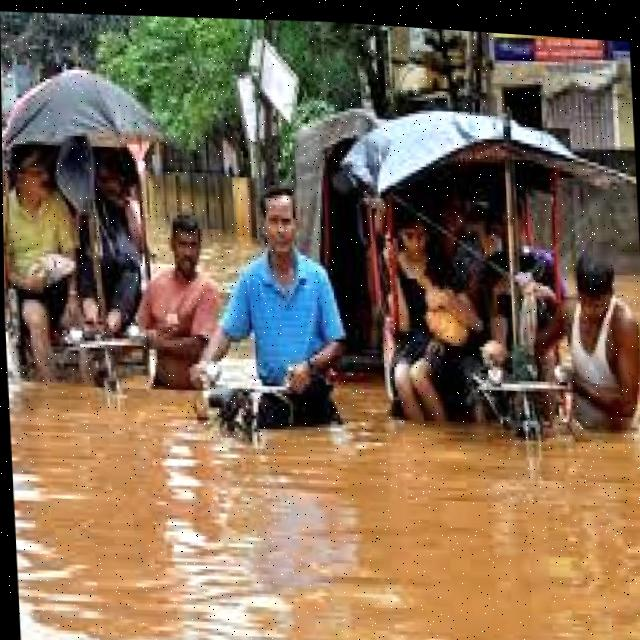civilian: (211, 176, 347, 426), (369, 202, 491, 437), (2, 144, 99, 384), (540, 247, 640, 446), (139, 206, 227, 407), (71, 138, 152, 350)
